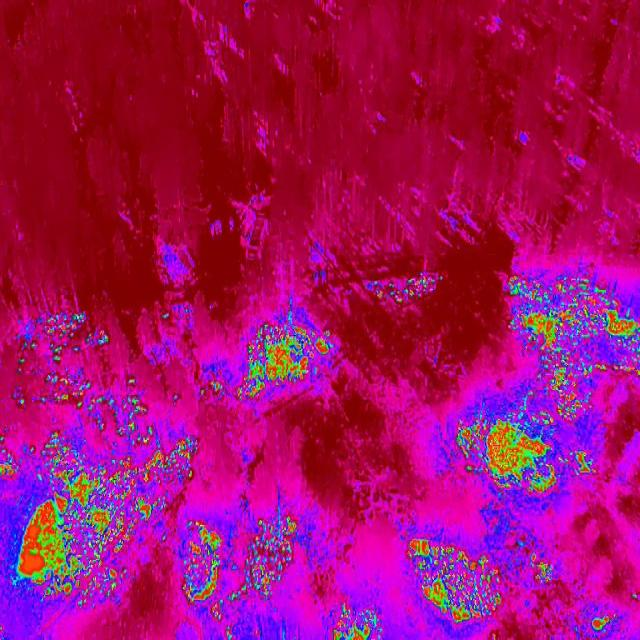fire: (0, 426, 199, 613), (508, 273, 638, 408), (454, 402, 596, 507), (186, 514, 304, 622), (400, 527, 514, 629), (209, 316, 329, 404), (15, 308, 110, 412), (364, 272, 444, 313), (330, 596, 390, 640), (580, 606, 630, 640), (530, 558, 562, 594)
